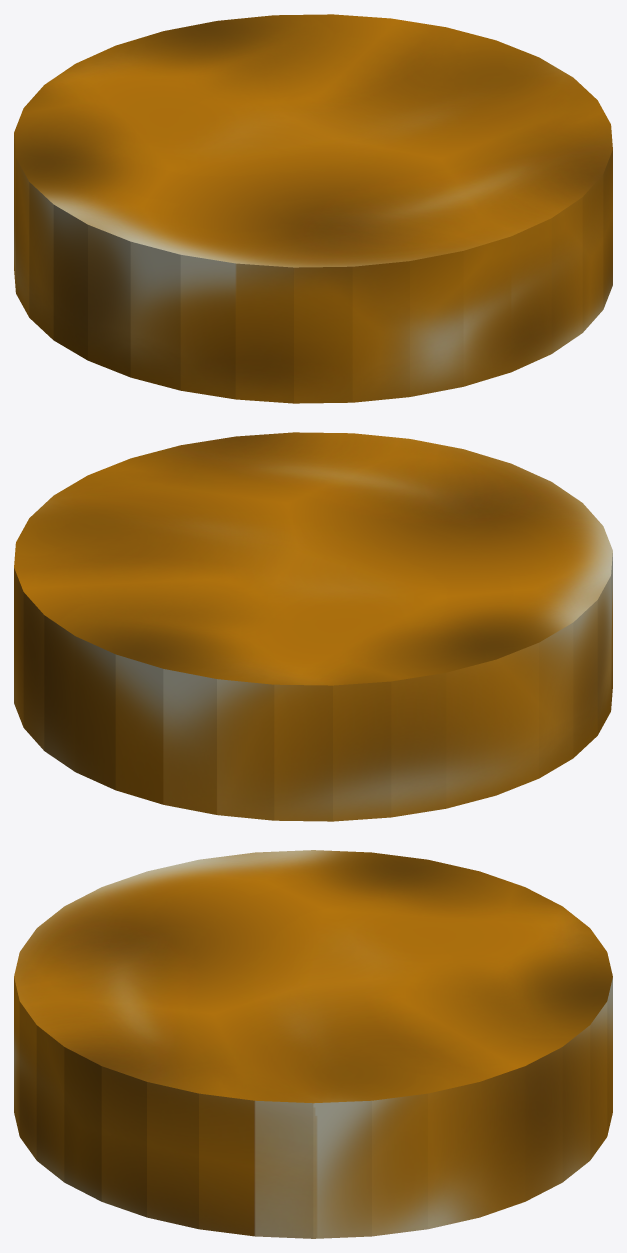
The model's file is だいこん(おでん).fbx.
3 views of the same model, one above another, from view 1: azimuth 30°, elevation 25°; view 2: azimuth 150°, elevation 25°; view 3: azimuth 270°, elevation 25° (orthographic).
Visible parts, largest first — view 1: 円柱.002; view 2: 円柱.002; view 3: 円柱.002.
Part boxes in pixels (box(x1,y1,x2,y2)): 円柱.002: box(14, 14, 612, 403); 円柱.002: box(14, 432, 612, 821); 円柱.002: box(14, 850, 612, 1238).
Size of the model in its own units: 265 by 66.37 by 265.
Materials: 1 (1 with a texture image).
